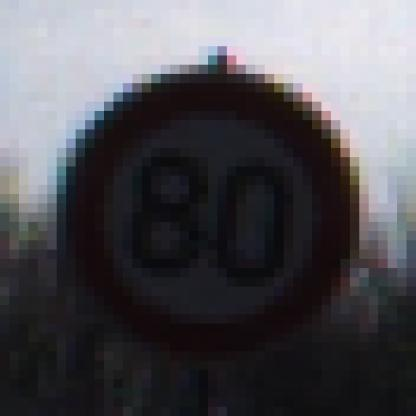Speed Limit -80-: (69, 55, 366, 349)
